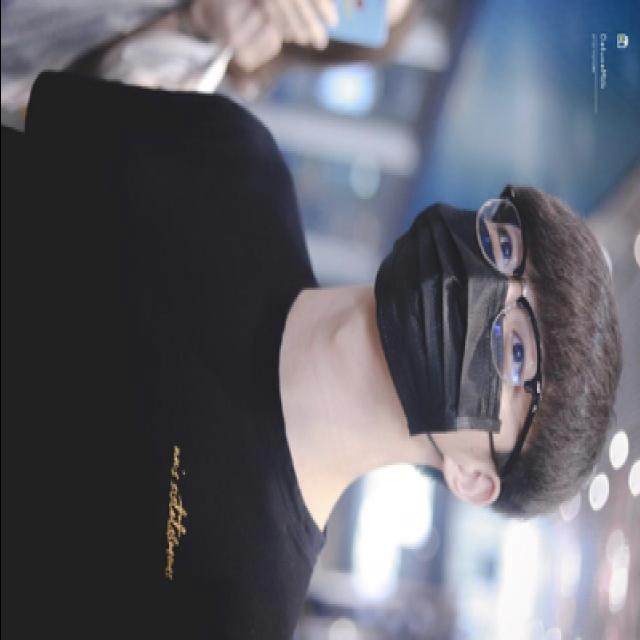with_mask: (374, 199, 556, 475)
